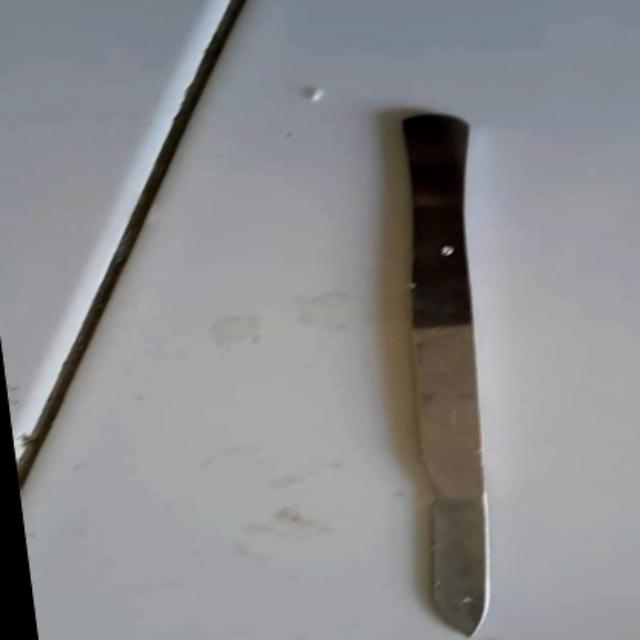Knife: (356, 103, 542, 639)
